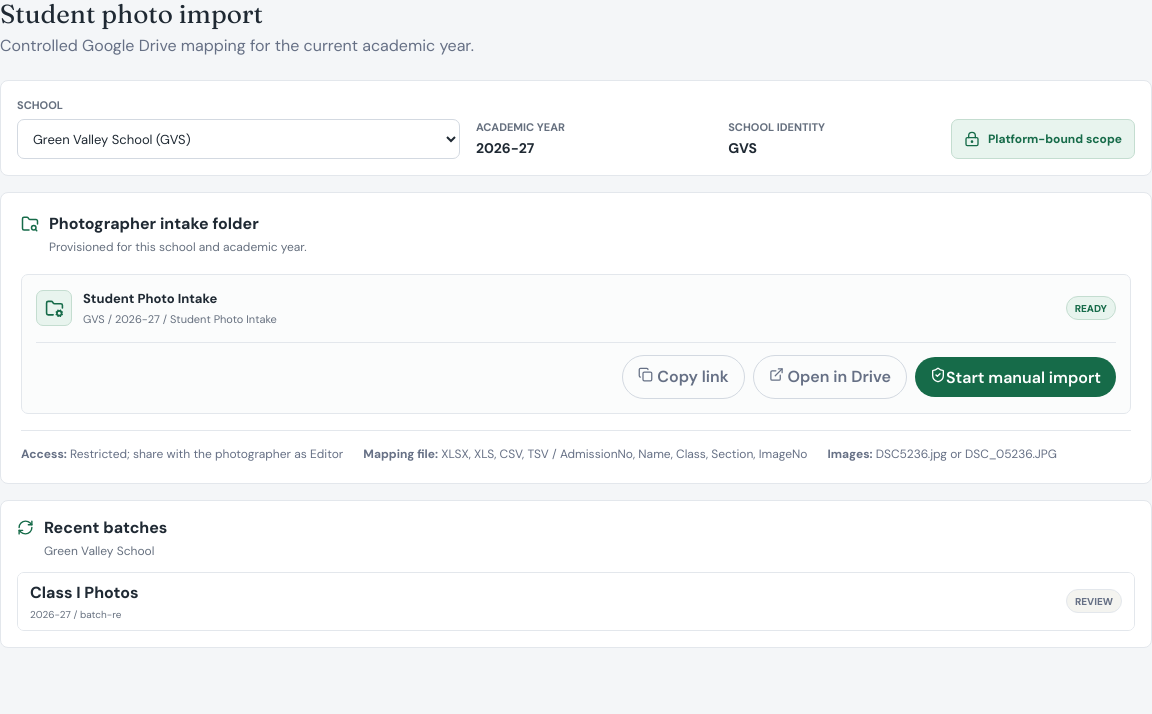
Test: PhotoImportPanel › lets an operator correct a row mapping without destructive crop controls
Click the button "Class I Photos 2026-27 / batch-re REVIEW". click: (84, 592)
box: [18,573,1134,630]
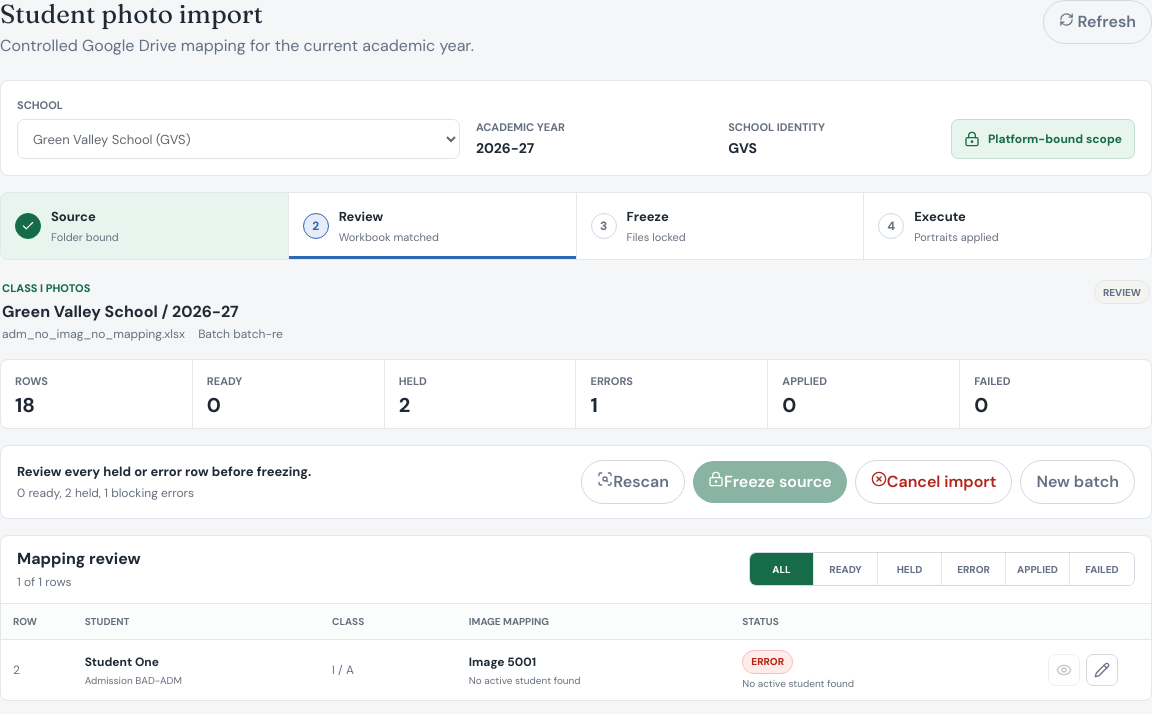
Click the button named "review mapping for student one". click: (1102, 670)
box: [1086,654,1118,686]
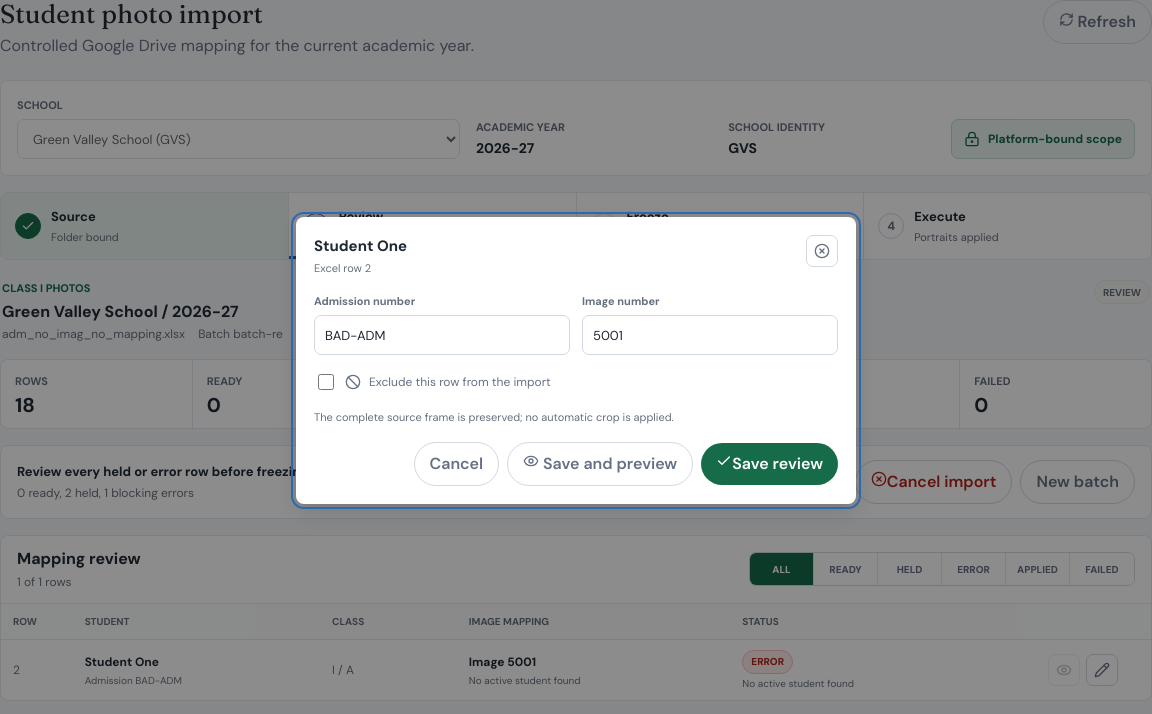
Replace the text in the field labelled "Admission number" with "ADM-1". click: (442, 335)
box: [314,315,570,355]
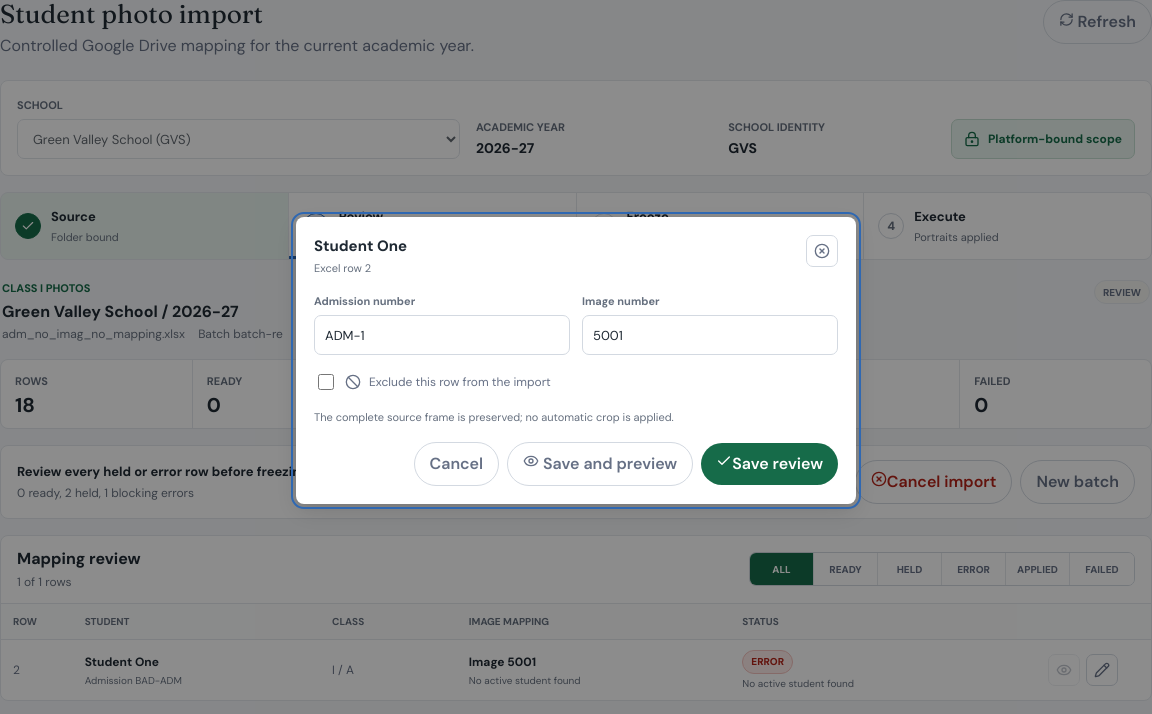
Replace the text in the field labelled "Image number" with "6001". click: (710, 335)
box: [582,315,838,355]
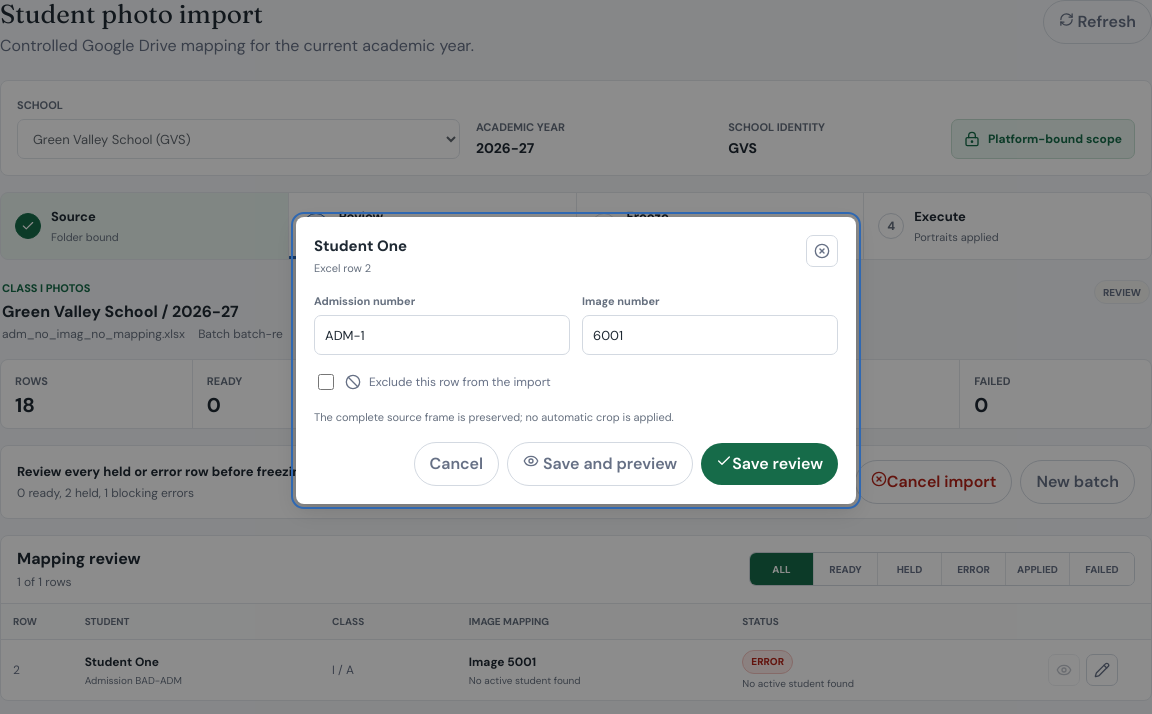
expect the text "complete source frame is preserved" is shown: met, box [314,410,674,424]
Click the button "Save review". click: (770, 464)
box: [701,442,838,484]
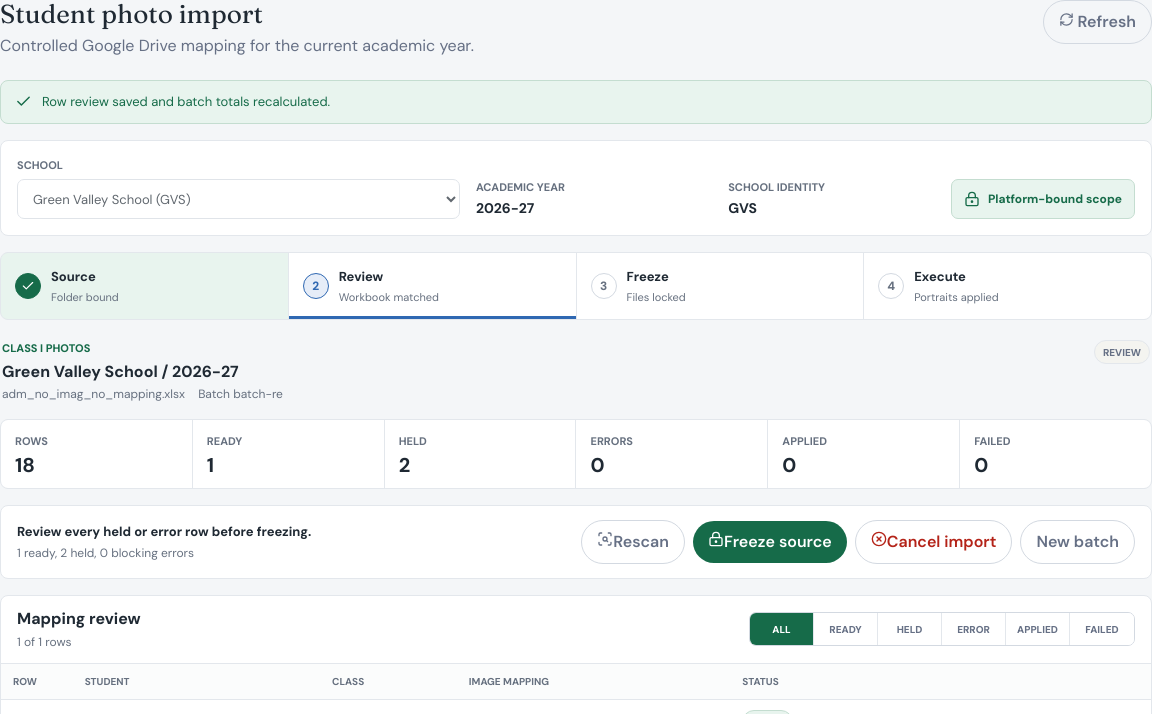
expect the text "Row review saved and batch totals recalculated." is shown: met, box [42,92,330,112]
